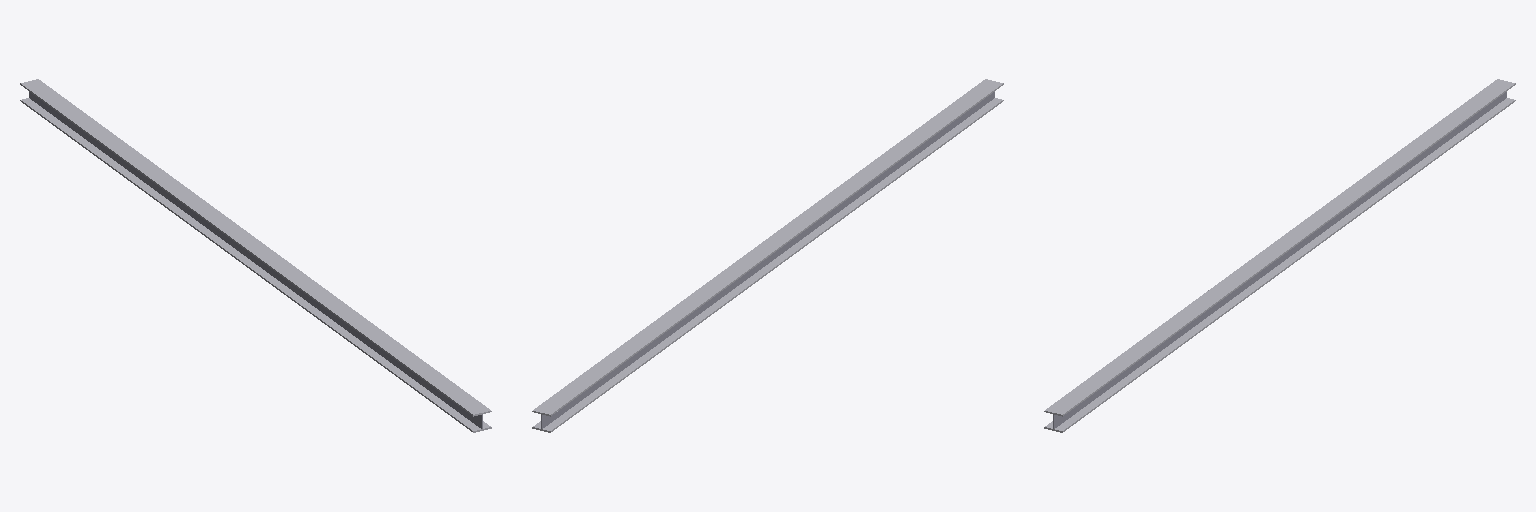
URDF robot description (h_bar):
<?xml version="1.0" ?>
<!-- =================================================================================== -->
<!-- |    This document was autogenerated by xacro from h_bar.xacro                    | -->
<!-- |    EDITING THIS FILE BY HAND IS NOT RECOMMENDED                                 | -->
<!-- =================================================================================== -->
<robot name="h_bar">
  <link name="world"/>
  <!-- Bottom leg (aligned with z-axis after rotation, below origin) -->
  <link name="hbar_bottom_leg">
    <visual>
      <origin rpy="0 1.57079633 0" xyz="0 0 0"/>
      <geometry>
        <!-- thickness x, profile width y, leg length along local z -->
        <box size="0.01 5.0 0.115"/>
      </geometry>
      <material name="hbar_material_bottom">
        <!-- Brushed steel-like gray -->
        <color rgba="0.75 0.75 0.78 1.0"/>
      </material>
    </visual>
    <collision>
      <origin rpy="0 1.57079633 0" xyz="0 0 0"/>
      <geometry>
        <box size="0.01 5.0 0.115"/>
      </geometry>
    </collision>
    <inertial>
      <origin rpy="0 0 0" xyz="0 0 0"/>
      <mass value="0.3333333333333333"/>
      <inertia ixx="0.6948118055555554" ixy="0.0" ixz="0.0" iyy="0.00037013888888888887" iyz="0.0" izz="0.6944472222222222"/>
    </inertial>
  </link>
  <!-- Top leg (aligned with z-axis after rotation, above origin) -->
  <link name="hbar_top_leg">
    <visual>
      <origin rpy="0 1.57079633 0" xyz="0 0 0"/>
      <geometry>
        <box size="0.01 5.0 0.115"/>
      </geometry>
      <material name="hbar_material_top">
        <!-- Brushed steel-like gray -->
        <color rgba="0.75 0.75 0.78 1.0"/>
      </material>
    </visual>
    <collision>
      <origin rpy="0 1.57079633 0" xyz="0 0 0"/>
      <geometry>
        <box size="0.01 5.0 0.115"/>
      </geometry>
    </collision>
    <inertial>
      <origin rpy="0 0 0" xyz="0 0 0"/>
      <mass value="0.3333333333333333"/>
      <inertia ixx="0.6948118055555554" ixy="0.0" ixz="0.0" iyy="0.00037013888888888887" iyz="0.0" izz="0.6944472222222222"/>
    </inertial>
  </link>
  <!-- Crossbar: vertical (aligned with z-axis) at the origin -->
  <link name="hbar_crossbar">
    <visual>
      <!-- Thickness in x,y, length in z -->
      <origin rpy="0 0 0" xyz="0 0 0"/>
      <geometry>
        <box size="0.01 5.0 0.1"/>
      </geometry>
      <material name="hbar_material_cross">
        <!-- Slightly darker steel for visual contrast -->
        <color rgba="0.65 0.65 0.7 1.0"/>
      </material>
    </visual>
    <collision>
      <origin rpy="0 0 0" xyz="0 0 0"/>
      <geometry>
        <box size="0.01 5.0 0.1"/>
      </geometry>
    </collision>
    <inertial>
      <origin rpy="0 0 0" xyz="0 0 0"/>
      <mass value="0.3333333333333333"/>
      <inertia ixx="0.6947222222222222" ixy="0.0" ixz="0.0" iyy="0.0002805555555555556" iyz="0.0" izz="0.6944472222222222"/>
    </inertial>
  </link>
  <!-- Fix crossbar to world; its center is at the macro pose -->
  <joint name="hbar_cross_fix" type="fixed">
    <parent link="world"/>
    <child link="hbar_crossbar"/>
    <origin rpy="0 0 0" xyz="0 0 0"/>
  </joint>
  <!-- Top leg: translated +L_leg/2 in x and +L_span/2 in z relative to crossbar -->
  <joint name="hbar_top_fix" type="fixed">
    <parent link="hbar_crossbar"/>
    <child link="hbar_top_leg"/>
    <origin rpy="0 0.0 0" xyz="0 0 0.05"/>
  </joint>
  <!-- Bottom leg: translated +L_leg/2 in x and -L_span/2 in z relative to crossbar -->
  <joint name="hbar_bottom_fix" type="fixed">
    <parent link="hbar_crossbar"/>
    <child link="hbar_bottom_leg"/>
    <origin rpy="0 0 0" xyz="0 0 -0.05"/>
  </joint>
</robot>

--- What the picture shows (computed from the rendered views, not written in the file) ---
The picture shows the robot from 3 angles, left to right: view 1: azimuth 30°, elevation 25°; view 2: azimuth 150°, elevation 25°; view 3: azimuth 330°, elevation 25°; orthographic projection.
Model h_bar with 4 links and 3 joints (3 fixed), rooted at world, posed every joint at zero.
Links seen in each view (by area): view 1: hbar_top_leg, hbar_bottom_leg, hbar_crossbar; view 2: hbar_top_leg, hbar_bottom_leg, hbar_crossbar; view 3: hbar_top_leg, hbar_bottom_leg, hbar_crossbar.
Link boxes in pixels (x1,y1,x2,y2): hbar_top_leg: (20, 79, 491, 416); hbar_bottom_leg: (20, 98, 491, 432); hbar_crossbar: (29, 92, 482, 428); hbar_top_leg: (532, 79, 1003, 416); hbar_bottom_leg: (532, 98, 1003, 432); hbar_crossbar: (541, 92, 994, 428); hbar_top_leg: (1044, 79, 1515, 416); hbar_bottom_leg: (1044, 98, 1515, 432); hbar_crossbar: (1053, 92, 1506, 428).
Size in the robot's own frame: 0.115 by 5 by 0.11 metres.
Geometry: primitives only (box / cylinder / sphere), no mesh files.
